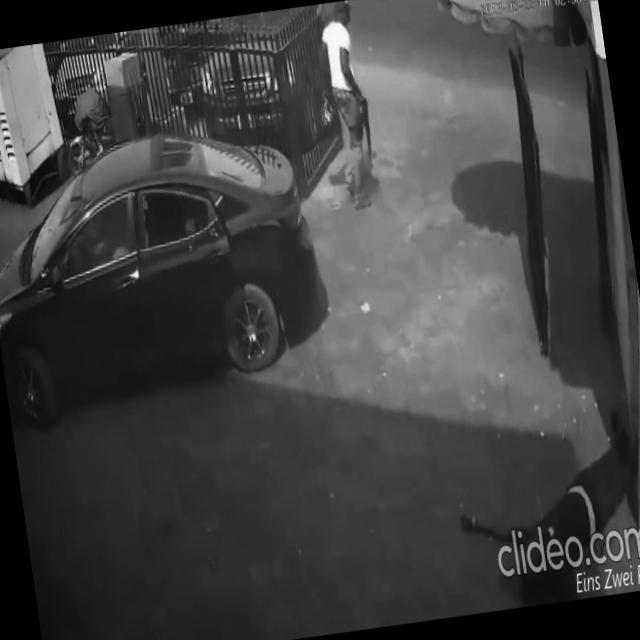gun: (352, 92, 378, 175)
person: (445, 403, 640, 613)
person with a gun: (309, 0, 384, 214)
